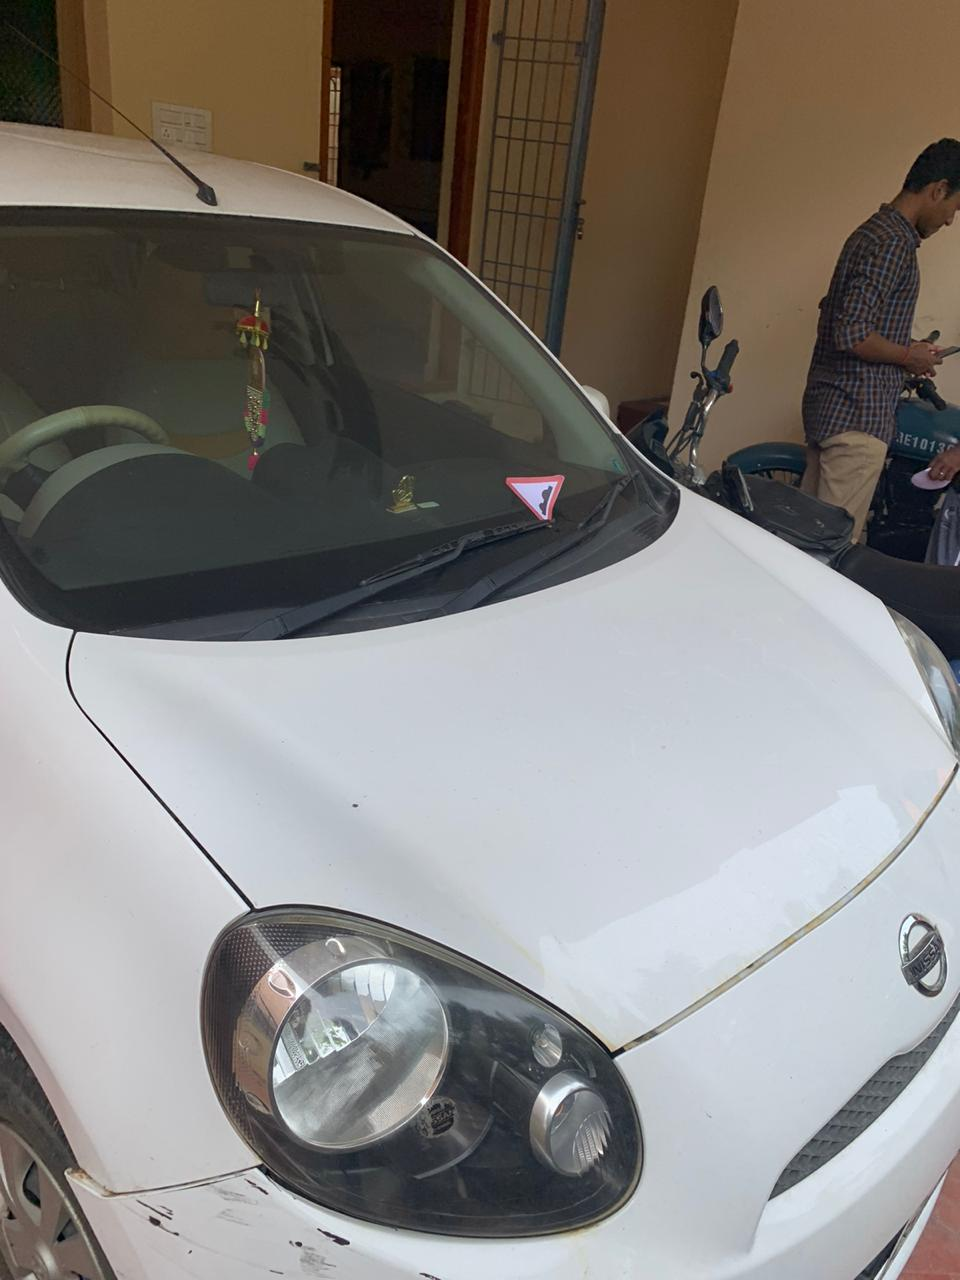UNEVEN ROAD: (497, 435, 583, 540)
